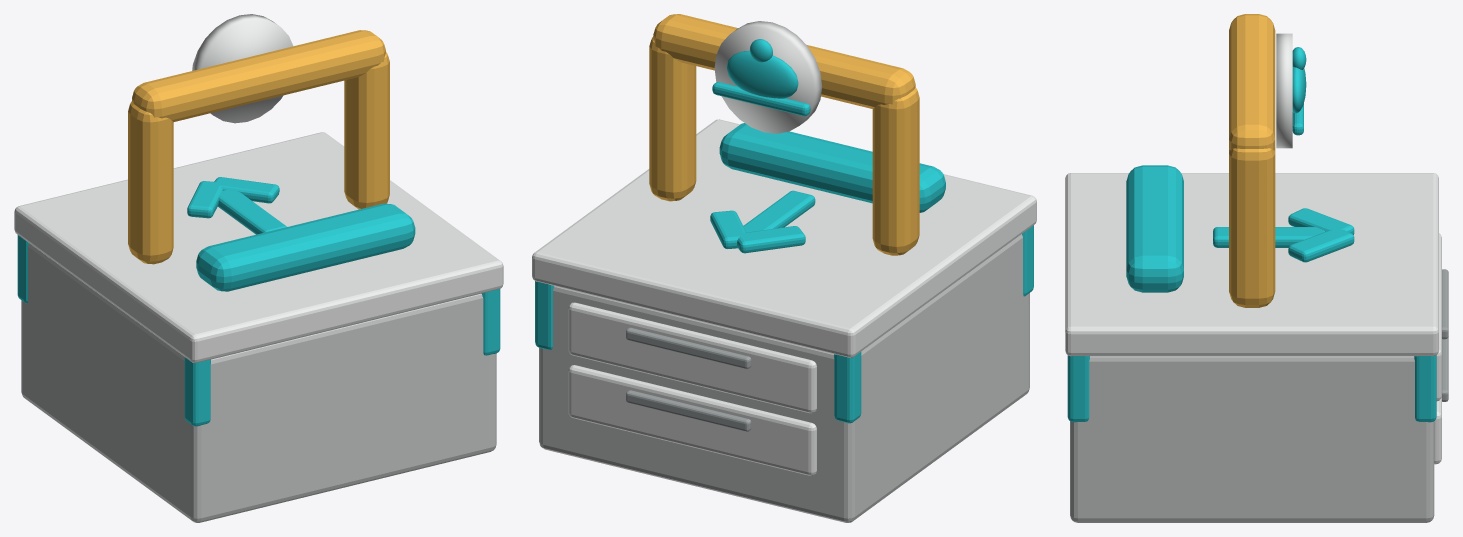
Rendered from ServingHatch.fbx.
3 renders of one model, left to right at view 1: azimuth 30°, elevation 25°; view 2: azimuth 150°, elevation 25°; view 3: azimuth 270°, elevation 25°, orthographic. The views are drawn at different scales.
Parts seen in each view (by area): view 1: MAT_Steel Geometry.005, MAT_SteelLight Geometry.006, MAT_Ochre Geometry, MAT_Teal Geometry.005; view 2: MAT_SteelLight Geometry.006, MAT_Steel Geometry.005, MAT_Ochre Geometry, MAT_Teal Geometry.005, MAT_SteelDark Geometry.005; view 3: MAT_Steel Geometry.005, MAT_SteelLight Geometry.006, MAT_Teal Geometry.005, MAT_Ochre Geometry, MAT_SteelDark Geometry.005.
Boxes of the visible parts, x1,y1,x2,y2 form: MAT_Steel Geometry.005: (21, 243, 496, 522); MAT_SteelLight Geometry.006: (14, 14, 503, 362); MAT_Ochre Geometry: (128, 30, 389, 264); MAT_Teal Geometry.005: (17, 177, 500, 426); MAT_SteelLight Geometry.006: (532, 21, 1036, 475); MAT_Steel Geometry.005: (539, 234, 1029, 522); MAT_Ochre Geometry: (649, 14, 919, 255); MAT_Teal Geometry.005: (535, 39, 1033, 423); MAT_SteelDark Geometry.005: (626, 327, 751, 431); MAT_Steel Geometry.005: (1070, 356, 1434, 522); MAT_SteelLight Geometry.006: (1065, 33, 1441, 464); MAT_Teal Geometry.005: (1067, 47, 1436, 422); MAT_Ochre Geometry: (1229, 14, 1275, 307); MAT_SteelDark Geometry.005: (1442, 269, 1448, 401).
Bounding box in the file's own units: 162 × 196 × 166.
